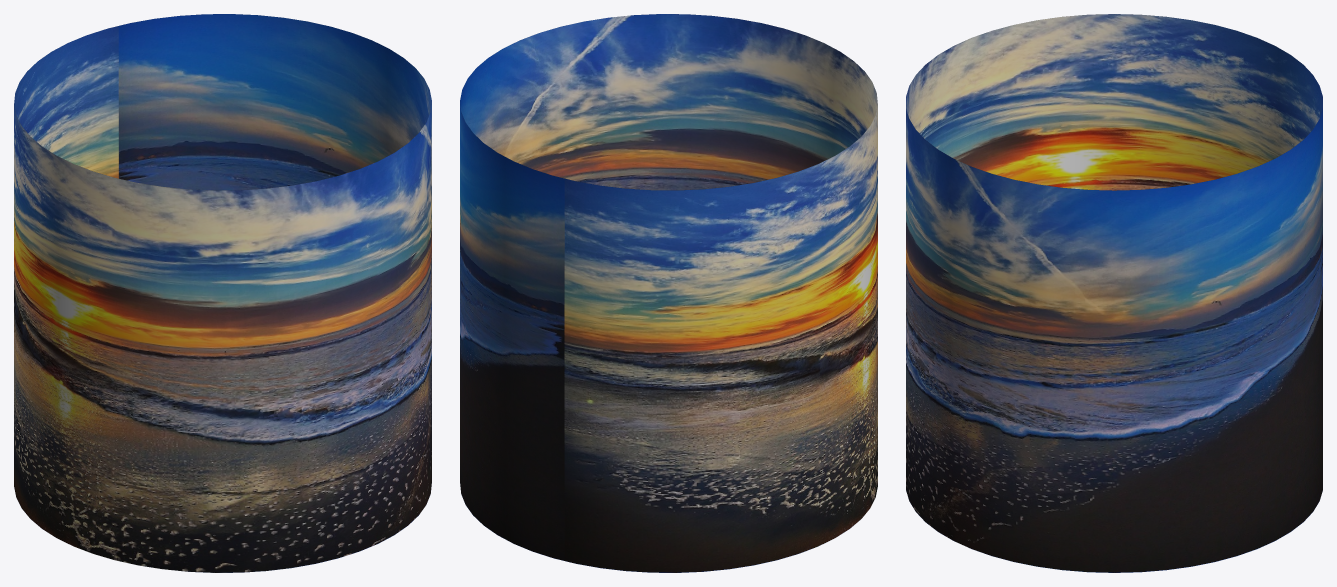
File: cilindro.FBX
3 views of the same model, side by side, from view 1: azimuth 30°, elevation 25°; view 2: azimuth 150°, elevation 25°; view 3: azimuth 270°, elevation 25° (orthographic).
Visible parts, largest first — view 1: Cylinder001; view 2: Cylinder001; view 3: Cylinder001.
Boxes of the visible parts, x1,y1,x2,y2 form: Cylinder001: (14,14,431,572); Cylinder001: (460,14,877,572); Cylinder001: (906,14,1322,572).
Size of the model in its own units: 200 by 202 by 200.
1 material, 1 textured.
